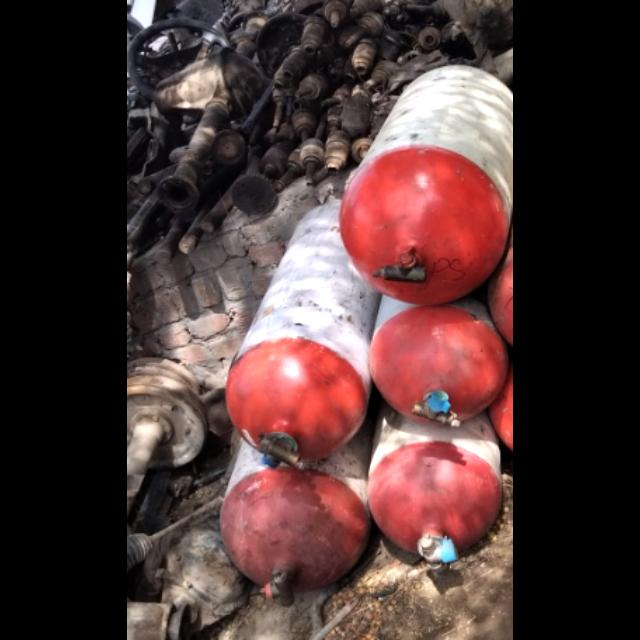Cylinders: (226, 193, 375, 483), (344, 61, 512, 310)
